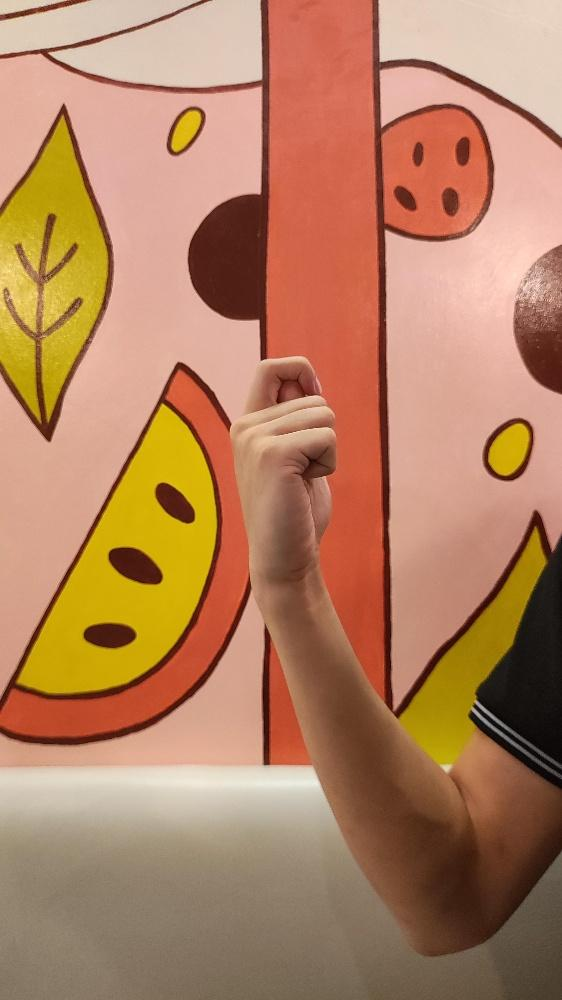t: (226, 353, 338, 588)
